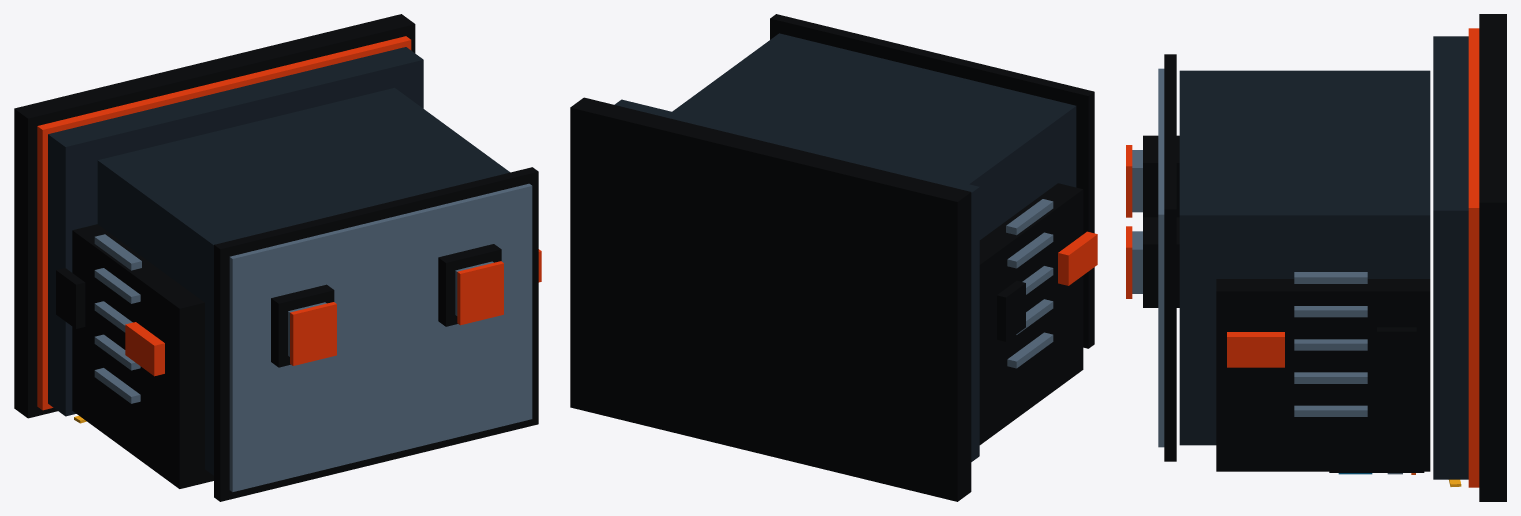
Rendered from FerraviumSmelter.obj.
The picture shows the model from 3 angles, left to right: view 1: azimuth 30°, elevation 25°; view 2: azimuth 150°, elevation 25°; view 3: azimuth 270°, elevation 25°; orthographic projection.
Visible parts, largest first — view 1: SM_FerraviumSmelter; view 2: SM_FerraviumSmelter; view 3: SM_FerraviumSmelter.
Part boxes in pixels (left/top/right/bottom): SM_FerraviumSmelter: left=14, top=14, right=541, bottom=501; SM_FerraviumSmelter: left=570, top=14, right=1097, bottom=501; SM_FerraviumSmelter: left=1126, top=14, right=1506, bottom=501.
Size of the model in its own units: 297 by 218 by 249.
